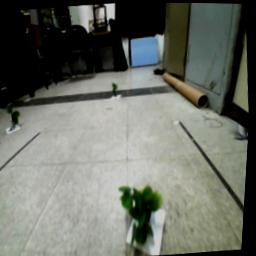herb: (118, 179, 170, 251), (7, 106, 24, 132)
